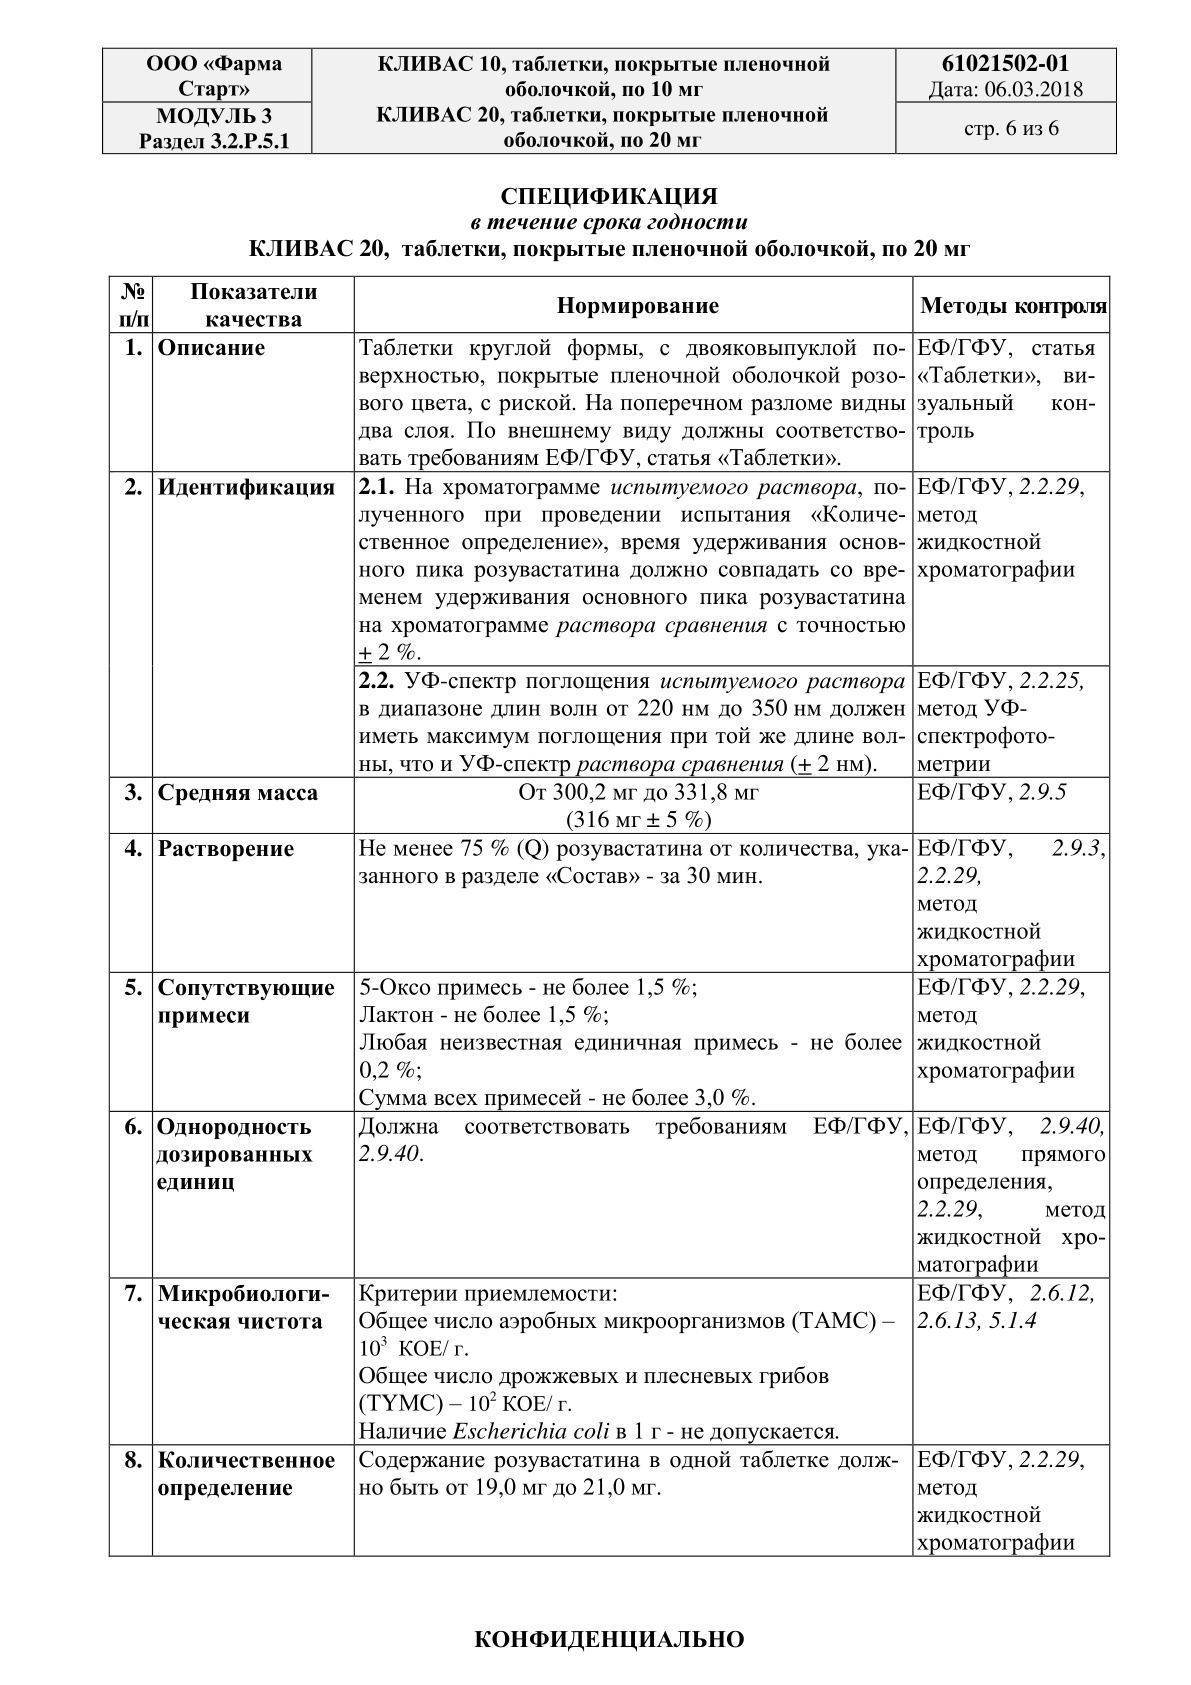merged_cells: (107, 273, 1112, 1557), (101, 46, 1118, 153)
